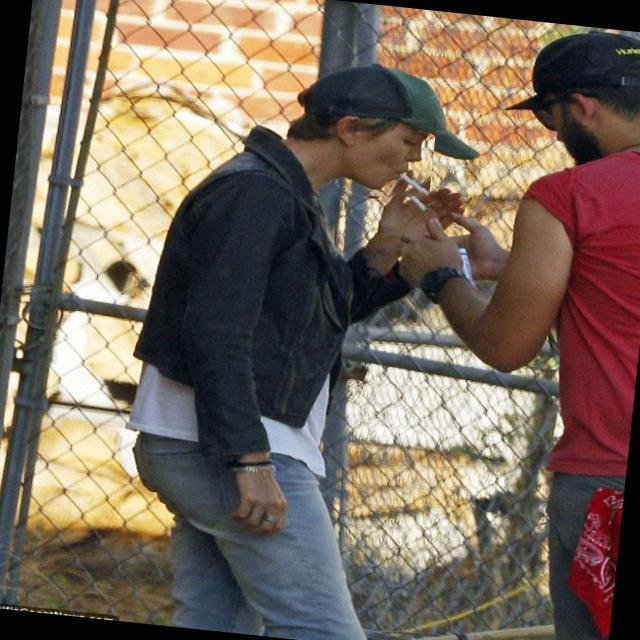cigarette: (382, 178, 439, 220)
